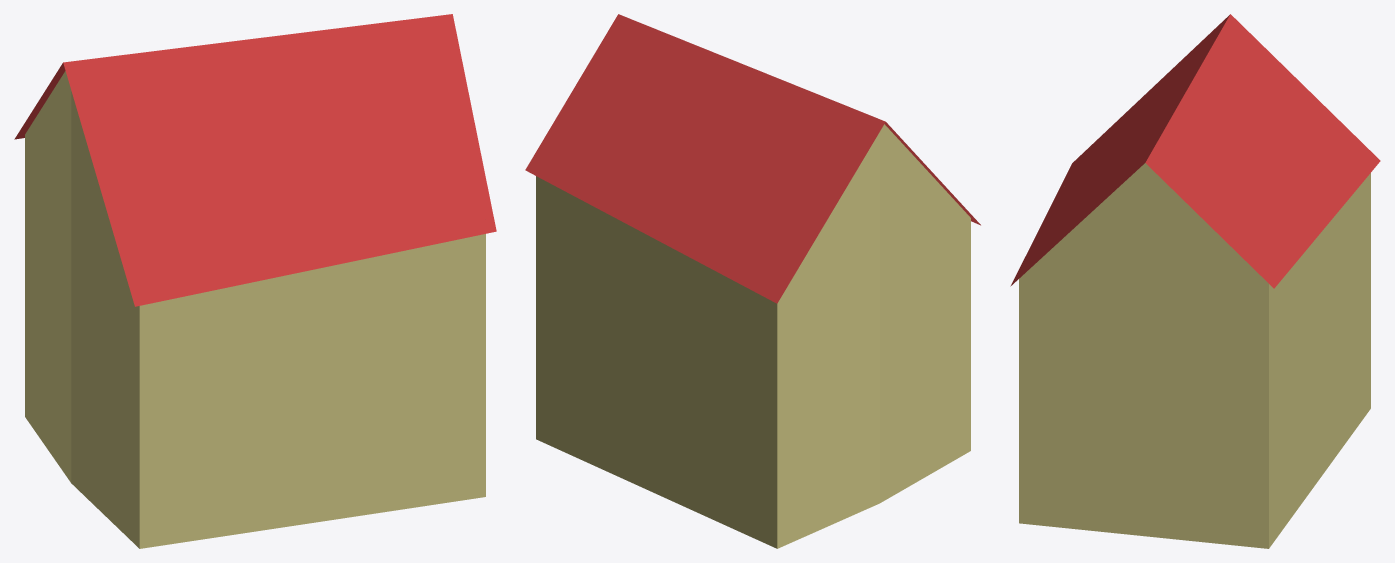
3 renders of one model, left to right at view 1: azimuth 30°, elevation 25°; view 2: azimuth 150°, elevation 25°; view 3: azimuth 270°, elevation 25°, orthographic. The views are drawn at different scales.
Bounding box in the file's own units: 12.98 × 12 × 13.46.
